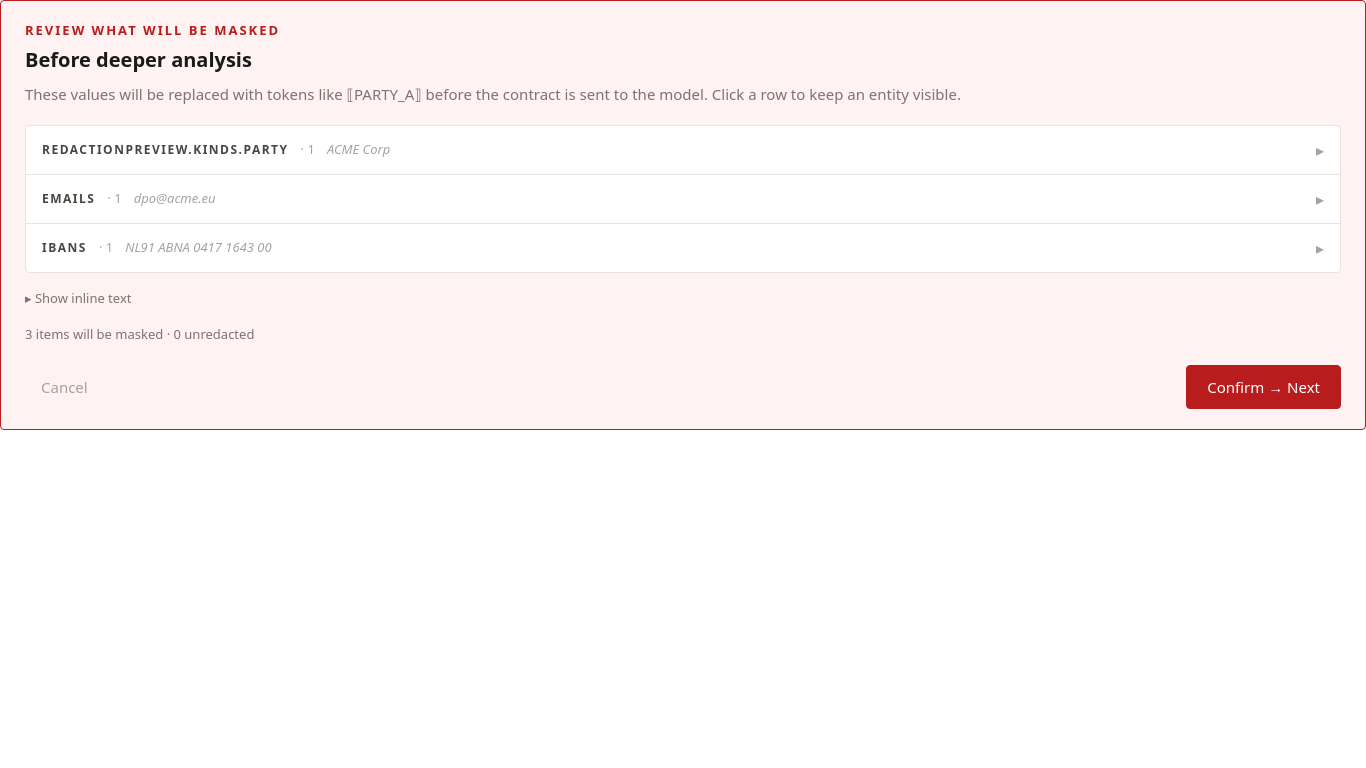
RedactionPreview › warns when user disables everything
The width and height of the screenshot is (1366, 768).
Step 1. Click the button "RedactionPreview.kinds.PARTY · 1 ACME Corp ▸" → {"x": 165, "y": 150}, box [26, 126, 1340, 174]
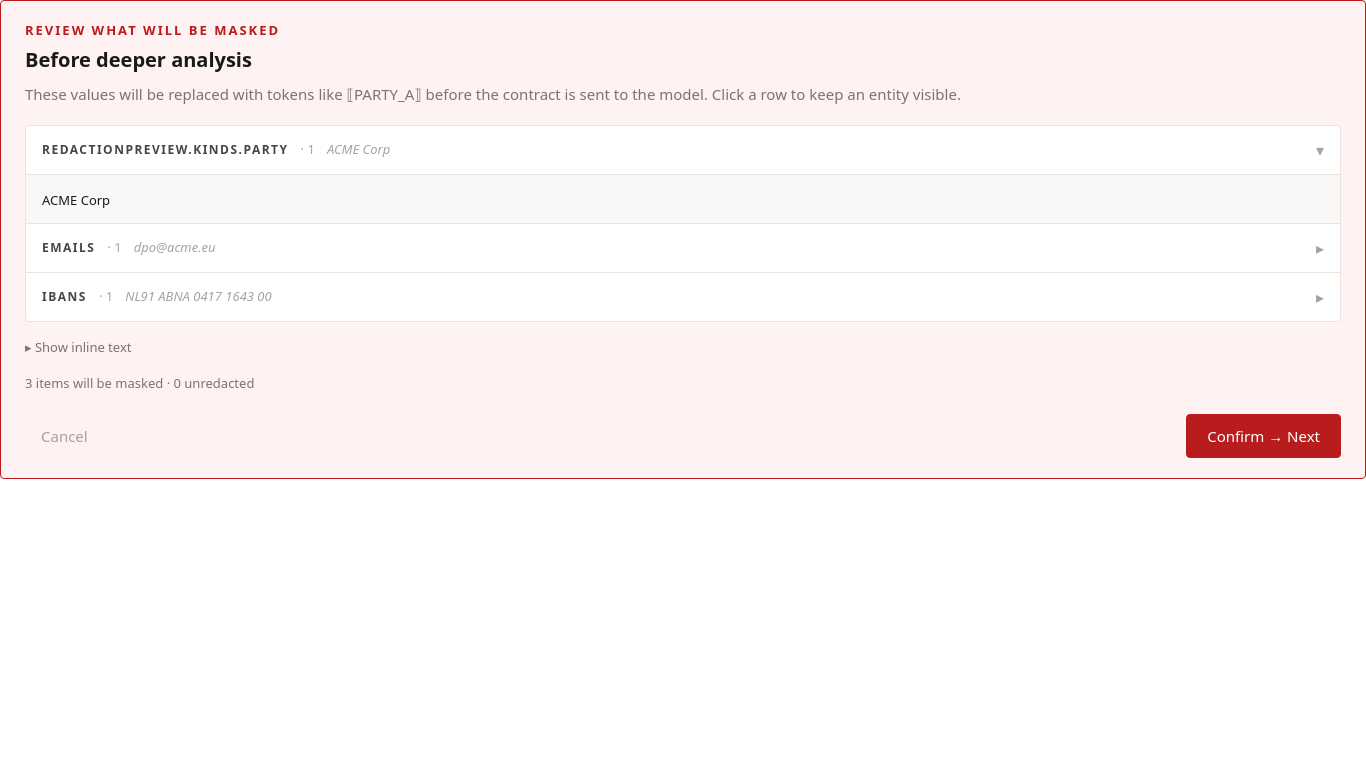
Step 2. Click the button named "disable acme corp" → {"x": 76, "y": 200}, box [42, 191, 1324, 210]
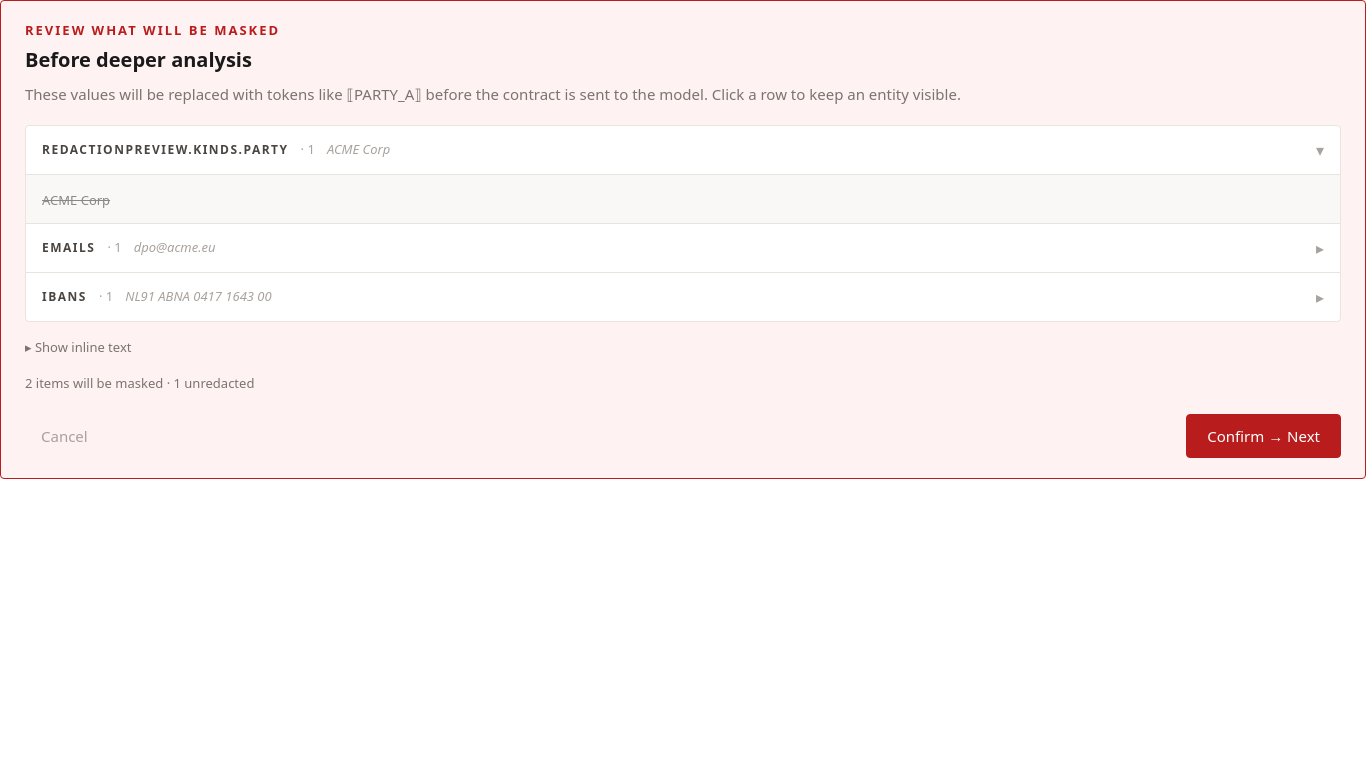
Step 3. Click the button "Emails · 1 dpo@acme.eu ▸" → {"x": 69, "y": 248}, box [26, 224, 1340, 272]
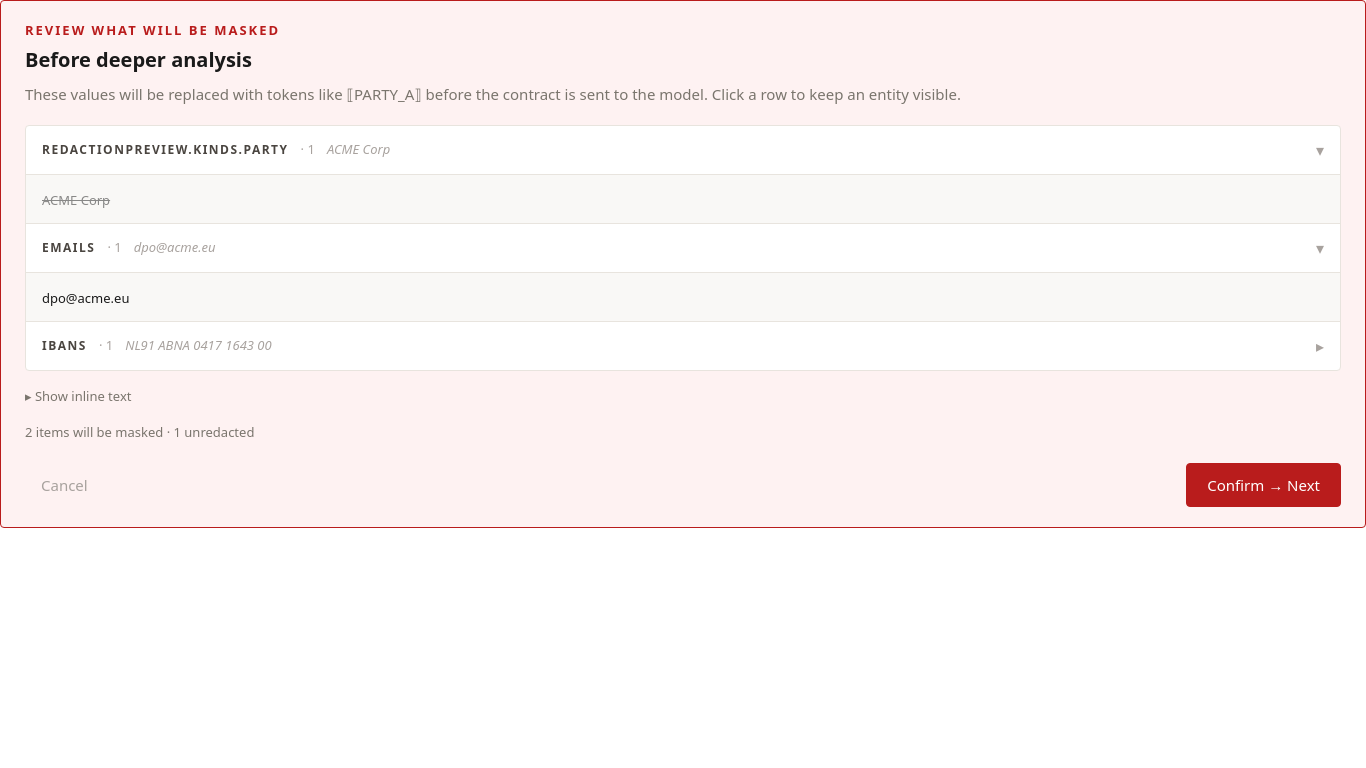
Step 4. Click the button named "disable dpo@acme.eu" → {"x": 86, "y": 298}, box [42, 289, 1324, 308]
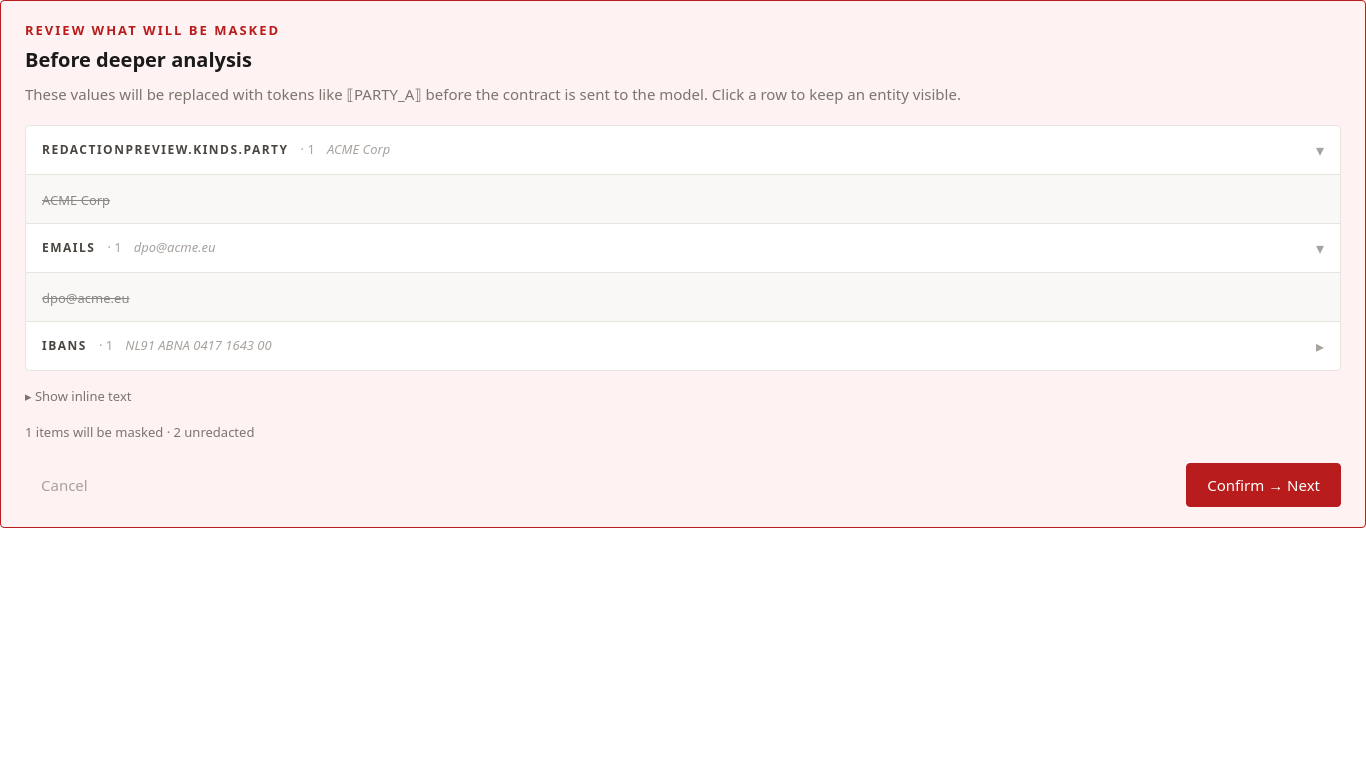
Step 5. Click the button "IBANs · 1 NL91 ABNA 0417 1643 00 ▸" → {"x": 64, "y": 346}, box [26, 322, 1340, 370]
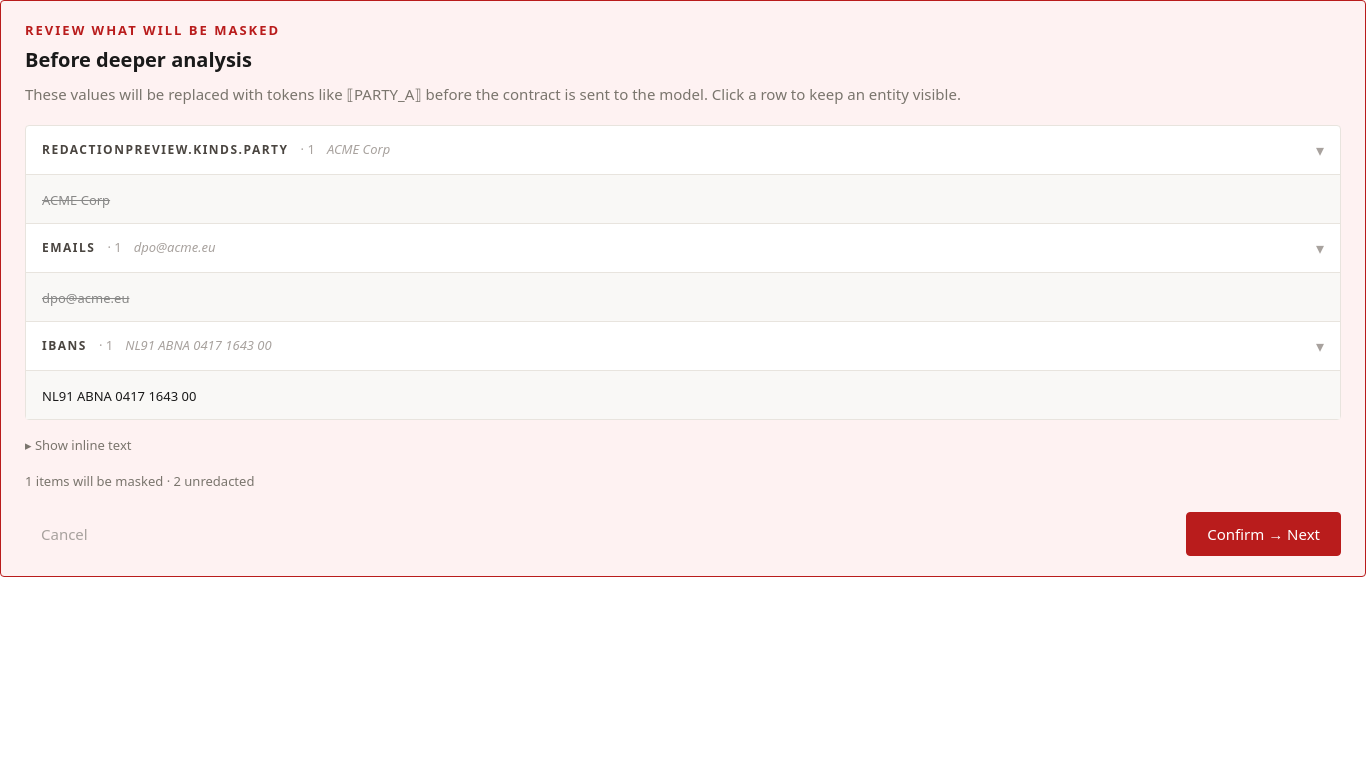
Step 6. Click the button named "disable nl91 abna 0417 1643 00" → {"x": 119, "y": 396}, box [42, 387, 1324, 406]
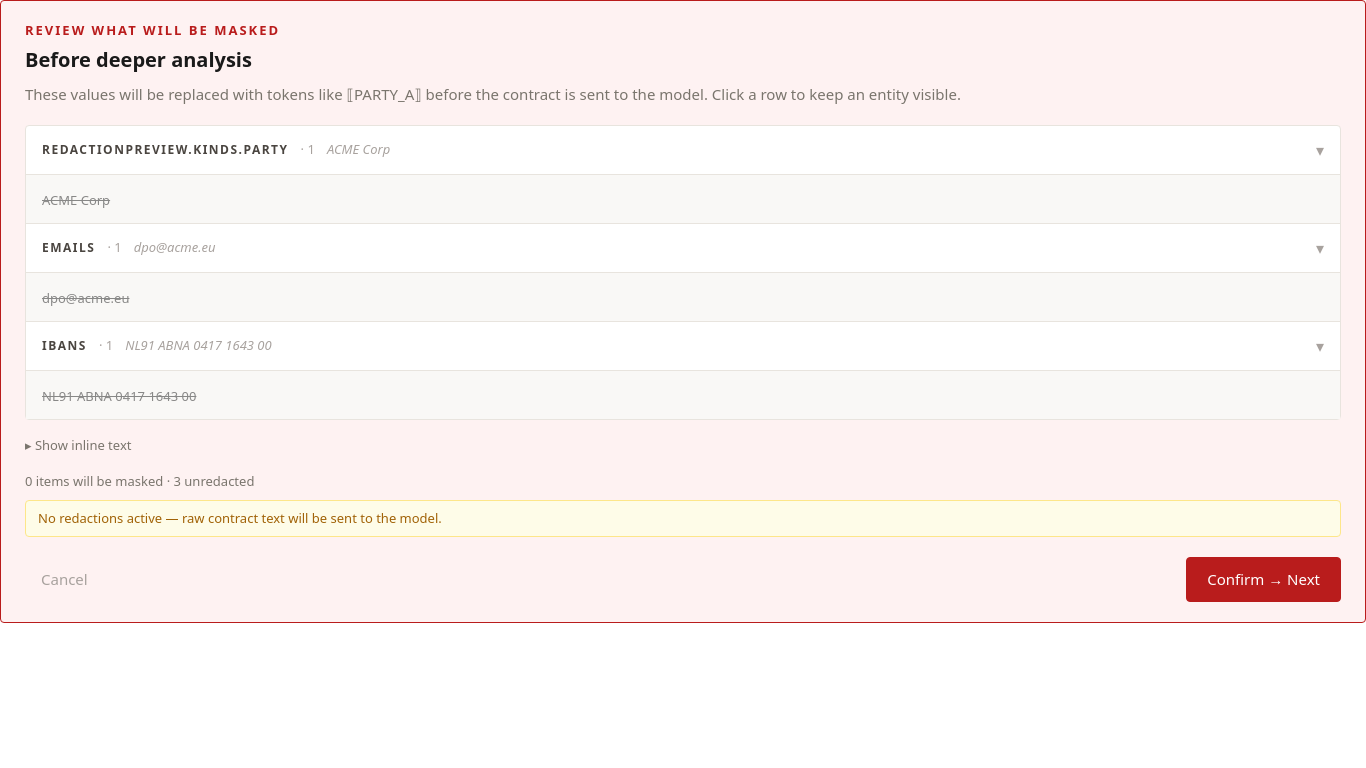
Now the text "No redactions active" is shown, box [38, 508, 442, 526]
